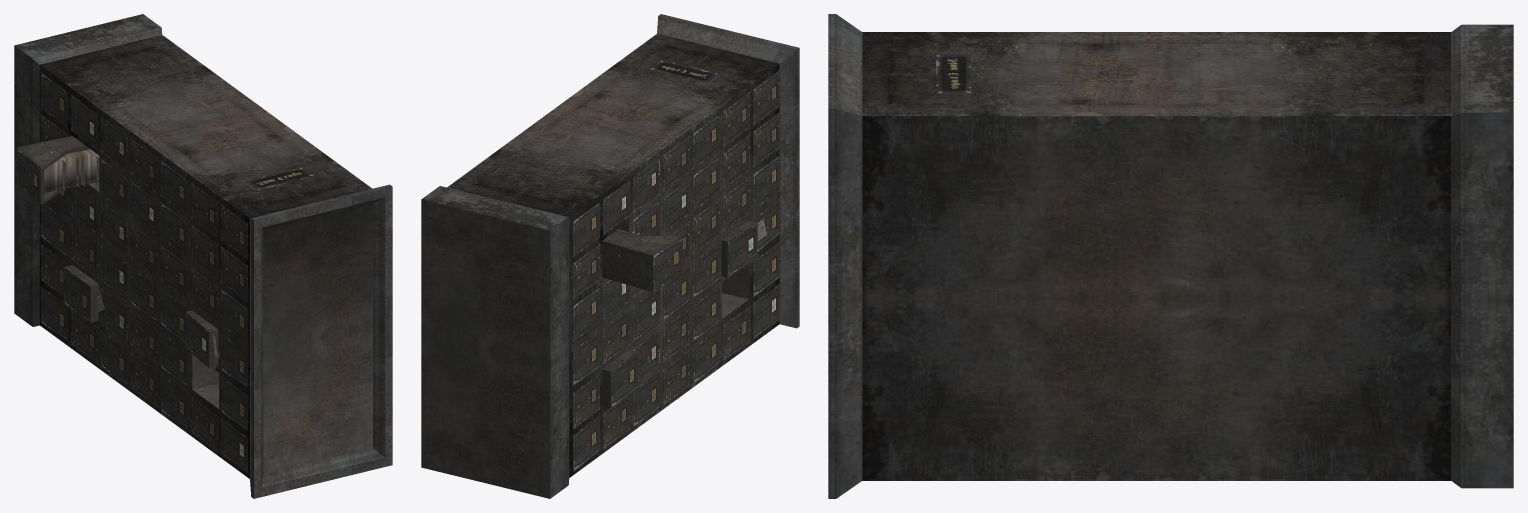
The model's file is furniture_file_cabinet_short_a.glb.
The picture shows the model from 3 angles, left to right: view 1: azimuth 30°, elevation 25°; view 2: azimuth 150°, elevation 25°; view 3: azimuth 270°, elevation 25°; orthographic projection. The views are drawn at different scales.
Size of the model in its own units: 46.47 by 66.14 by 105.
1 material, 1 textured.
